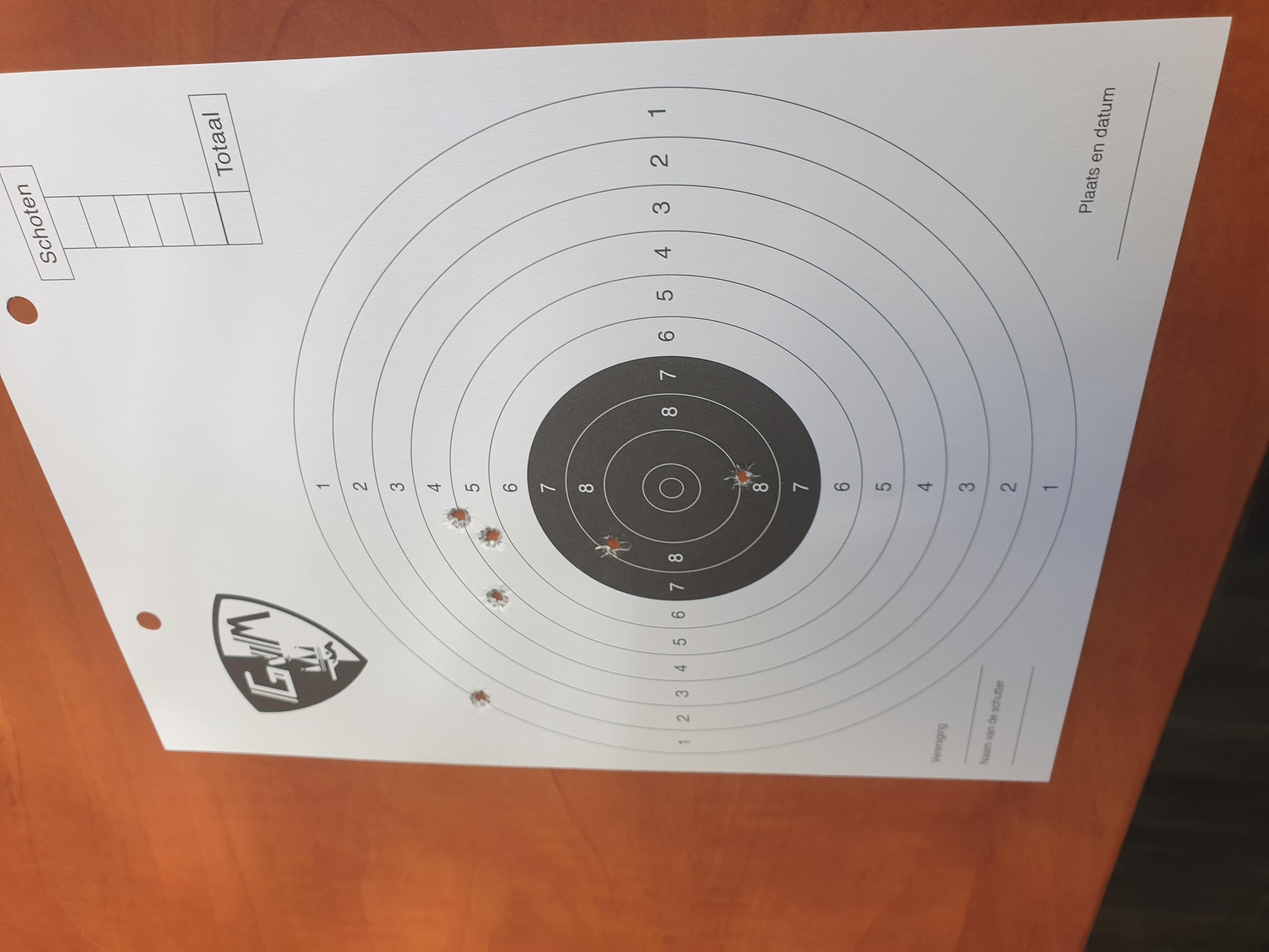hole: (511, 458, 546, 492), (637, 392, 678, 421), (798, 420, 824, 447), (758, 342, 785, 368), (764, 402, 790, 426), (775, 241, 799, 262)
